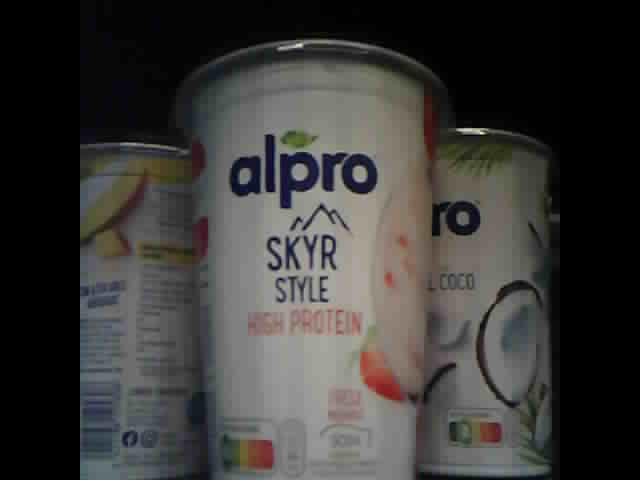alpro: (170, 38, 448, 478), (429, 123, 552, 480), (80, 134, 201, 479)
